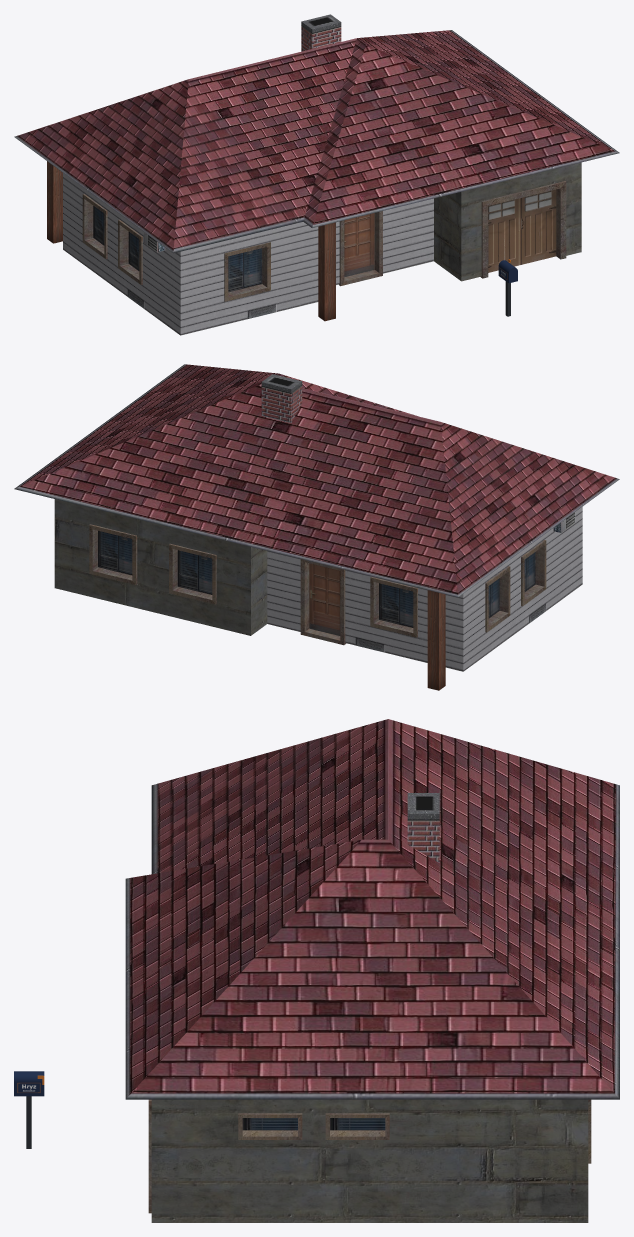
The model's file is casa1-c.glb.
3 views of the same model, one above another, from view 1: azimuth 30°, elevation 25°; view 2: azimuth 150°, elevation 25°; view 3: azimuth 270°, elevation 25° (orthographic). The views are drawn at different scales.
Visible parts, largest first — view 1: Casa, CaixaCorreio; view 2: Casa; view 3: Casa, CaixaCorreio.
Boxes of the visible parts, bbox=[...] form: Casa: bbox=[14, 14, 619, 335]; CaixaCorreio: bbox=[498, 259, 517, 316]; Casa: bbox=[14, 364, 619, 690]; Casa: bbox=[125, 719, 619, 1222]; CaixaCorreio: bbox=[14, 1071, 44, 1148].
Size of the model in its own units: 12.32 by 5.6 by 10.04.
Materials: 5 (2 with a texture image).
